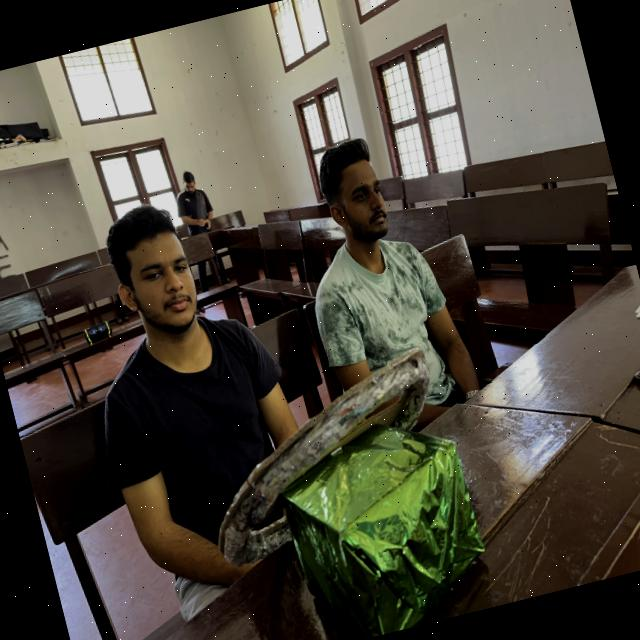Helmet: (80, 303, 346, 608), (296, 224, 484, 436)
